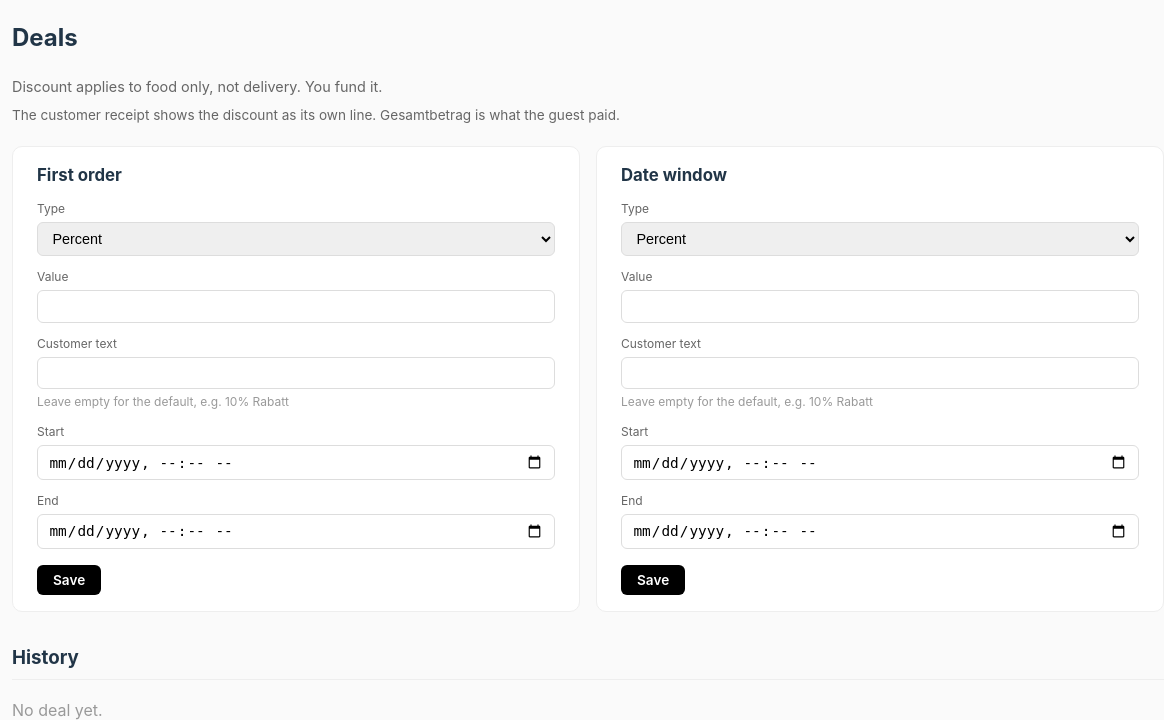
Test: DealsPage › shows window error when saving a window deal without dates
Type "10" into the number field labelled "Value" below "Date window". click: (880, 307)
box: [621,290,1139,323]
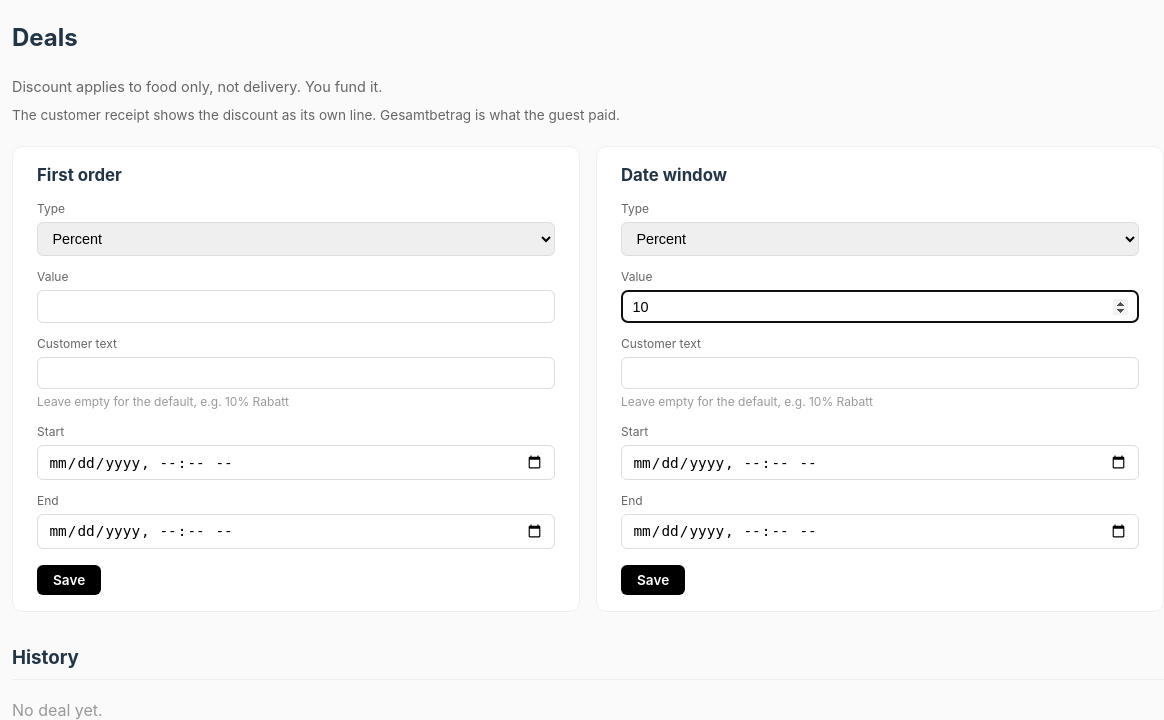
Click the 2nd button "Save". click: (653, 580)
box: [621,565,685,595]
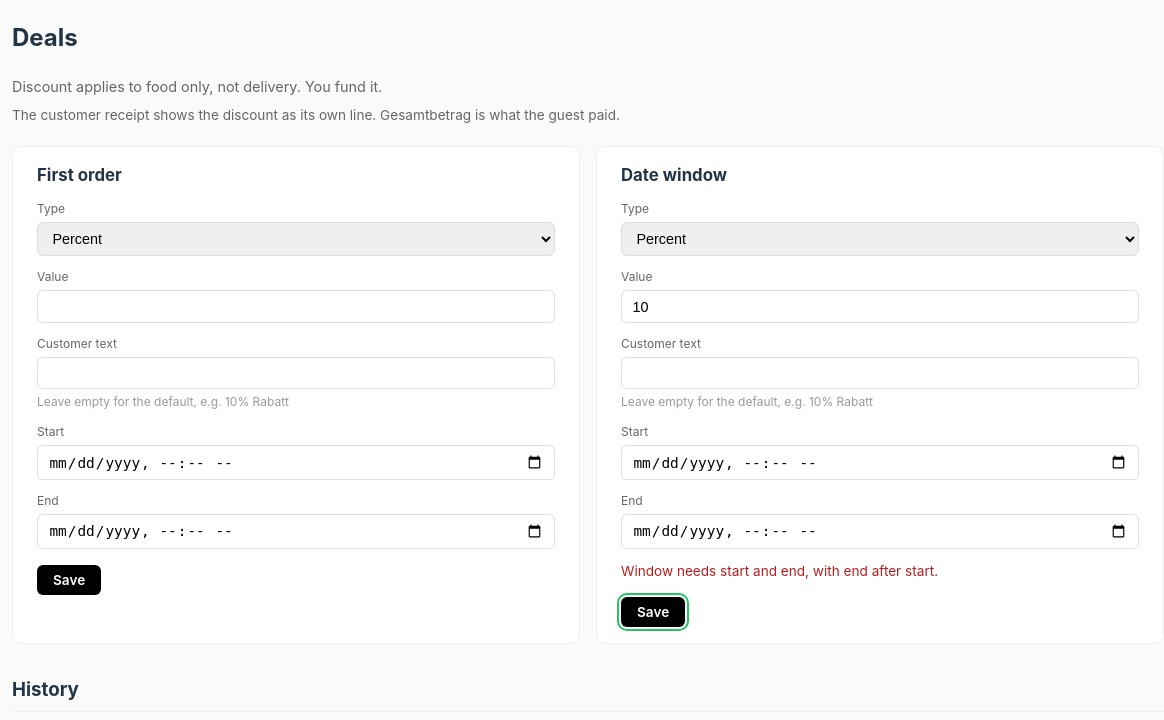
Now the text "Window needs start and end, with end after start." is shown, box [621,563,938,579]
